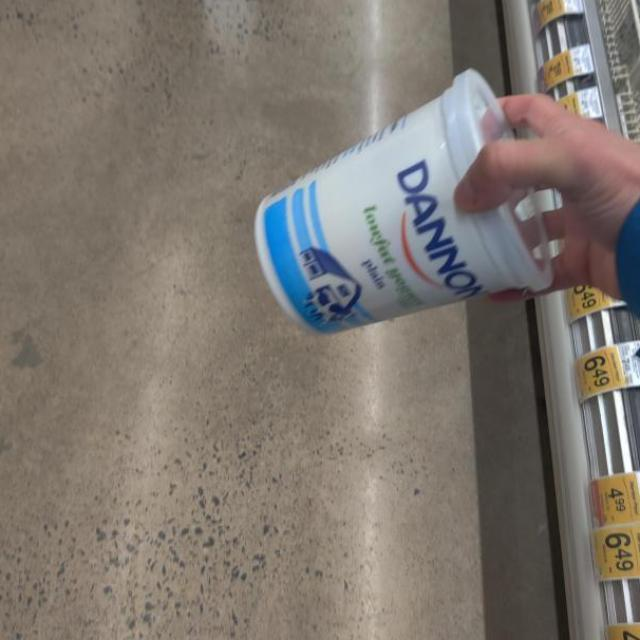Yogurt: (260, 69, 557, 332)
